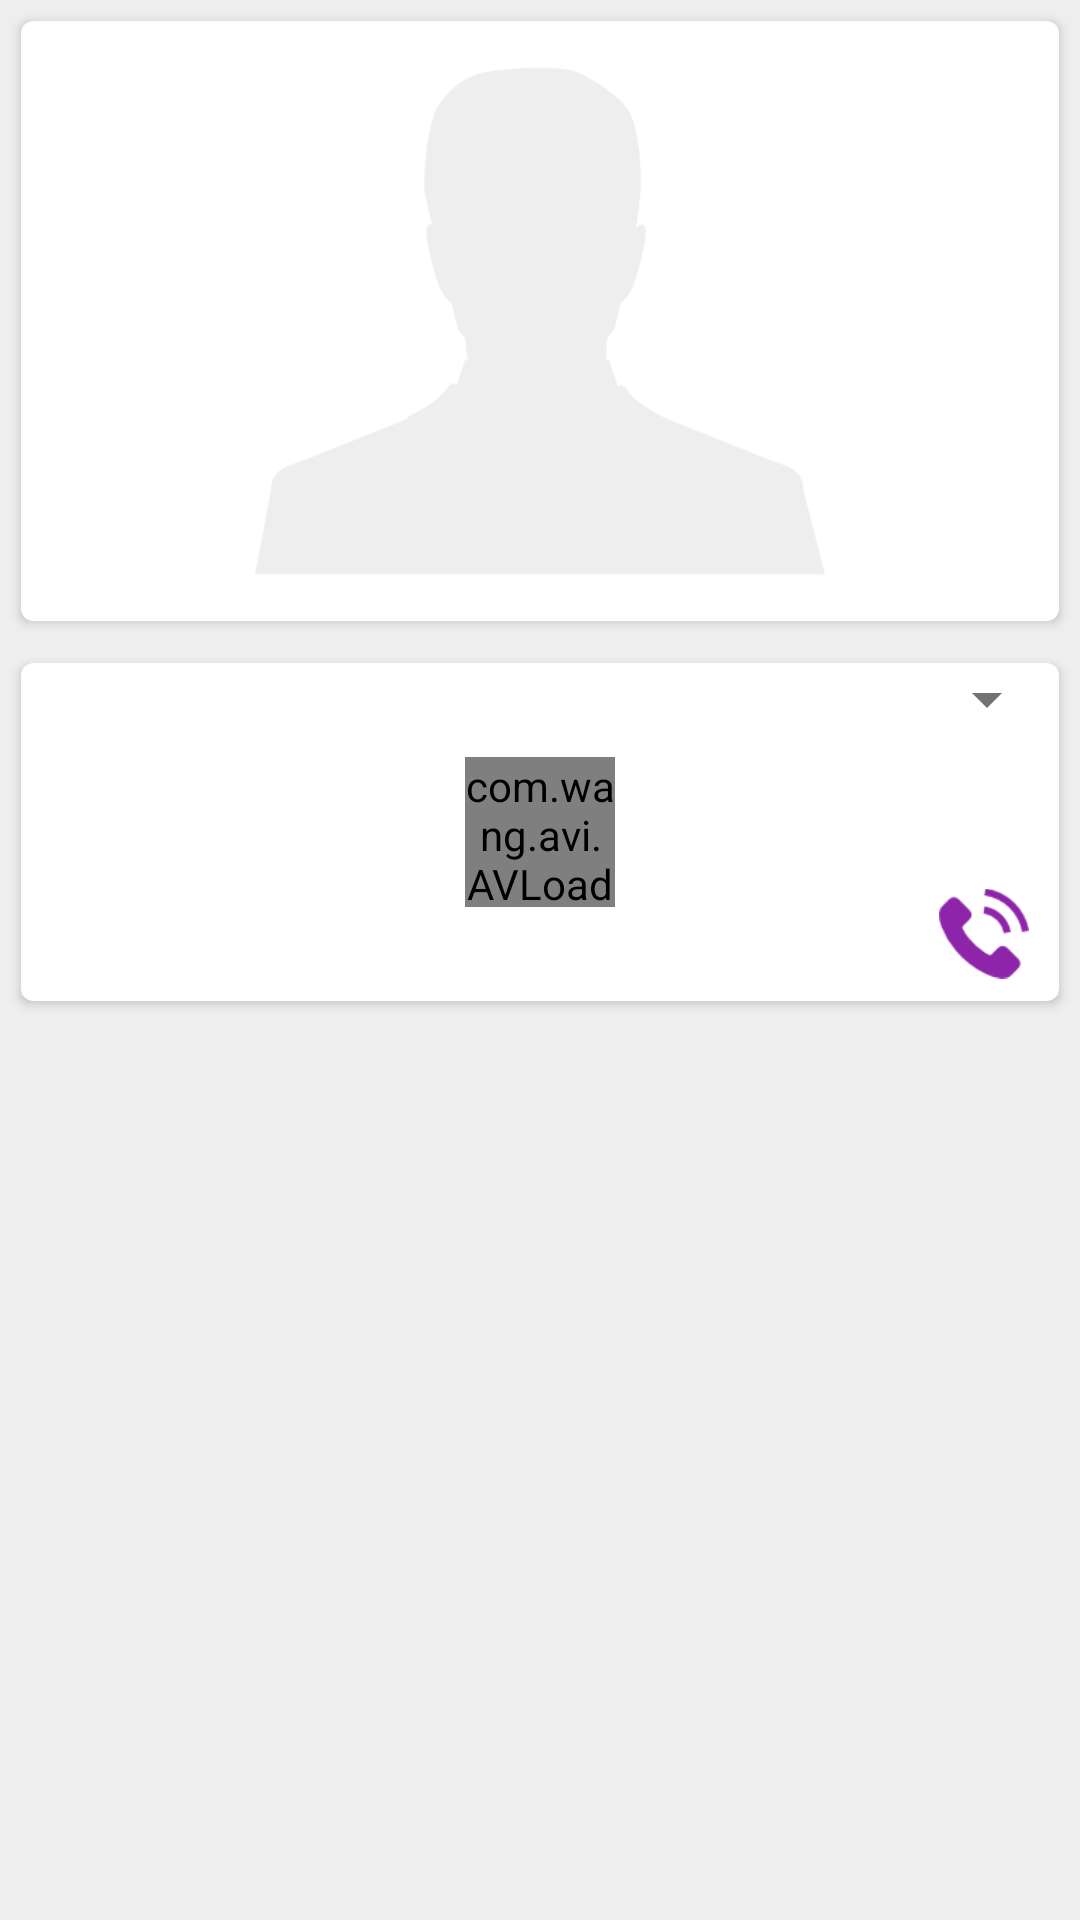

Icon click points for this 1080×1920 phone screenshot, format [x,y]:
call: [984,934]
